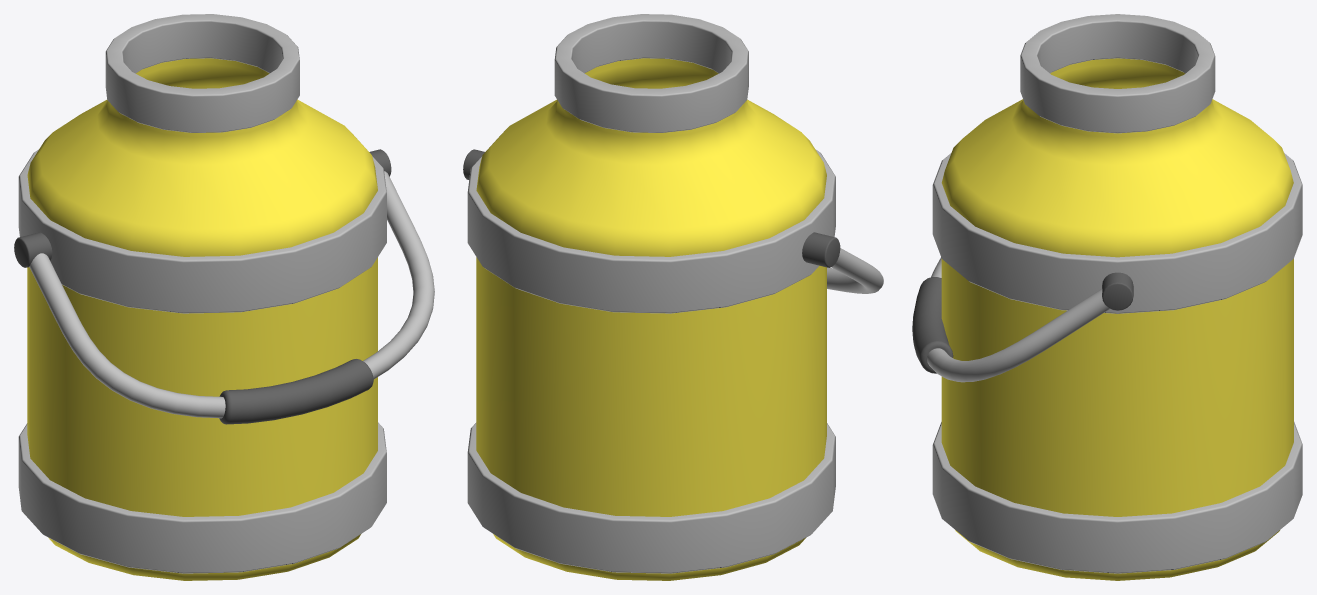
The model's file is Farm_19_Milk_Conteiner_1.glb.
3 views of the same model, side by side, from view 1: azimuth 30°, elevation 25°; view 2: azimuth 150°, elevation 25°; view 3: azimuth 270°, elevation 25° (orthographic).
Visible parts, largest first — view 1: Farm_19_Milk_Conteiner_1; view 2: Farm_19_Milk_Conteiner_1; view 3: Farm_19_Milk_Conteiner_1.
Boxes of the visible parts, bbox=[...] form: Farm_19_Milk_Conteiner_1: bbox=[14, 14, 434, 580]; Farm_19_Milk_Conteiner_1: bbox=[463, 14, 883, 580]; Farm_19_Milk_Conteiner_1: bbox=[912, 14, 1302, 580].
Bounding box in the file's own units: 0.7199 × 0.8719 × 0.6711.
1 material, 1 textured.
